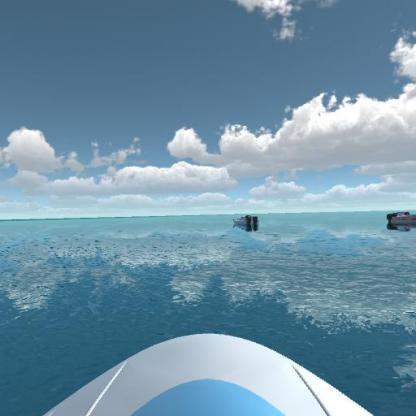usv1: (230, 211, 262, 232)
usv3: (384, 206, 416, 233)
